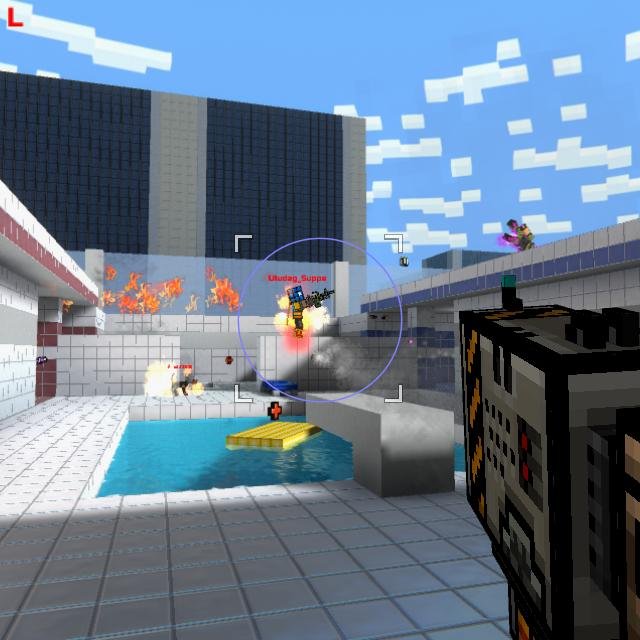Enemy: (287, 285, 314, 339)
